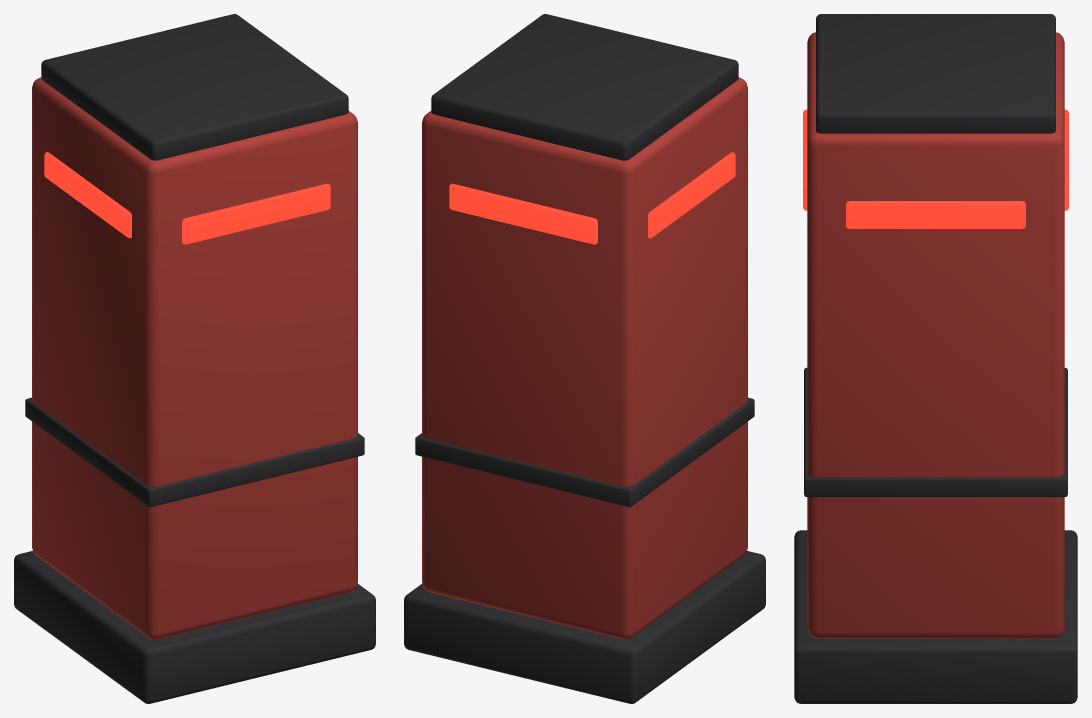
Rendered from bloque_enemigo.glb.
The picture shows the model from 3 angles, left to right: view 1: azimuth 30°, elevation 25°; view 2: azimuth 150°, elevation 25°; view 3: azimuth 270°, elevation 25°; orthographic projection. The views are drawn at different scales.
Visible parts, largest first — view 1: bloque; view 2: bloque; view 3: bloque.
Boxes of the visible parts, box(x1,y1,x2,y2) form: bloque: box(14, 14, 375, 703); bloque: box(404, 14, 765, 703); bloque: box(794, 14, 1077, 703).
Bounding box in the file's own units: 0.66 × 1.5 × 0.66.
